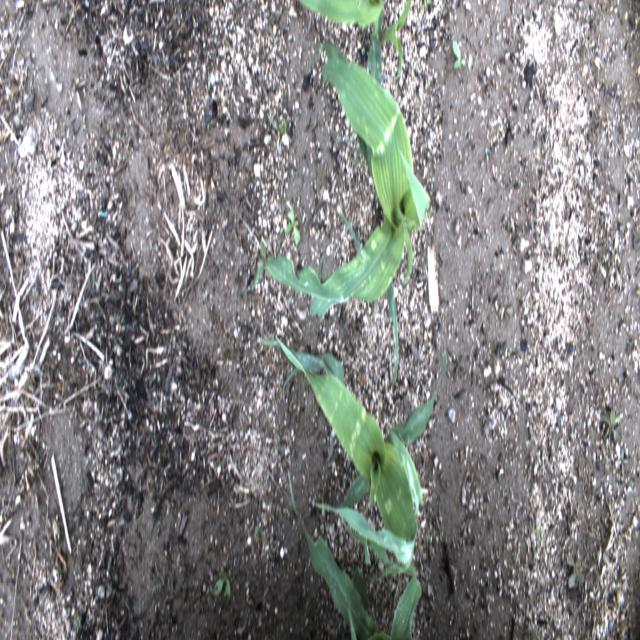crop: (247, 39, 434, 394), (260, 335, 437, 566), (286, 470, 421, 639), (296, 0, 414, 182)
weed: (282, 209, 302, 247), (600, 407, 621, 443), (212, 565, 232, 601), (567, 554, 584, 588), (451, 40, 466, 72), (614, 446, 628, 480)
